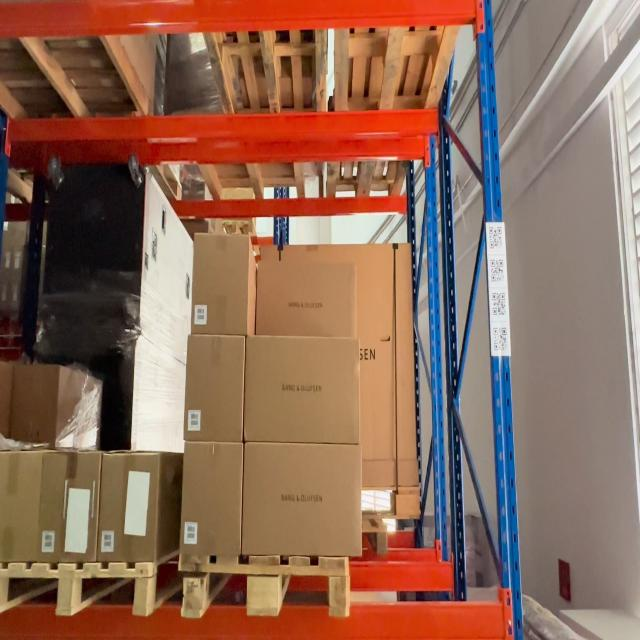box: (242, 443, 361, 558), (245, 340, 360, 446), (256, 263, 356, 341), (38, 452, 102, 563), (181, 444, 243, 558), (96, 454, 160, 562), (184, 338, 245, 442), (192, 235, 249, 335), (8, 368, 59, 448)
